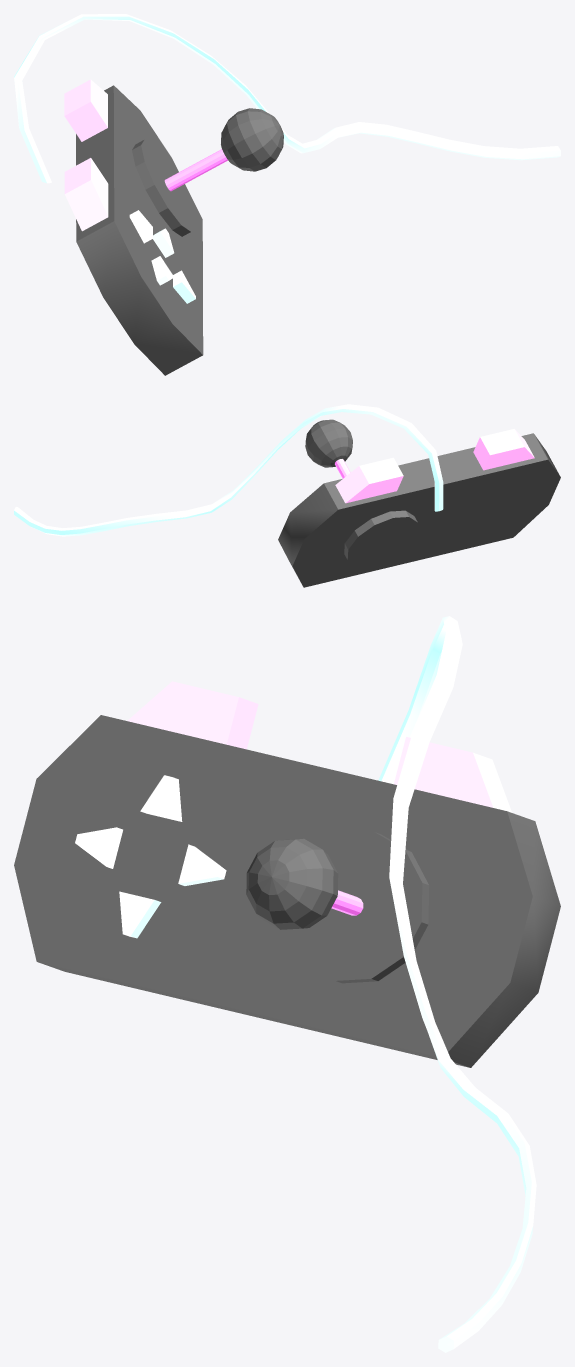
File: vr1.5a1ddc6e.gltf
3 renders of one model, top to bottom at view 1: azimuth 30°, elevation 25°; view 2: azimuth 150°, elevation 25°; view 3: azimuth 270°, elevation 25°, orthographic. The views are drawn at different scales.
Visible parts, largest first — view 1: pCylinder33; view 2: pCylinder33; view 3: pCylinder33.
Boxes of the visible parts, x1,y1,x2,y2 form: pCylinder33: [14, 14, 560, 375]; pCylinder33: [14, 404, 560, 587]; pCylinder33: [14, 616, 560, 1352].
Bounding box in the file's own units: 0.1303 × 0.0548 × 0.071.
